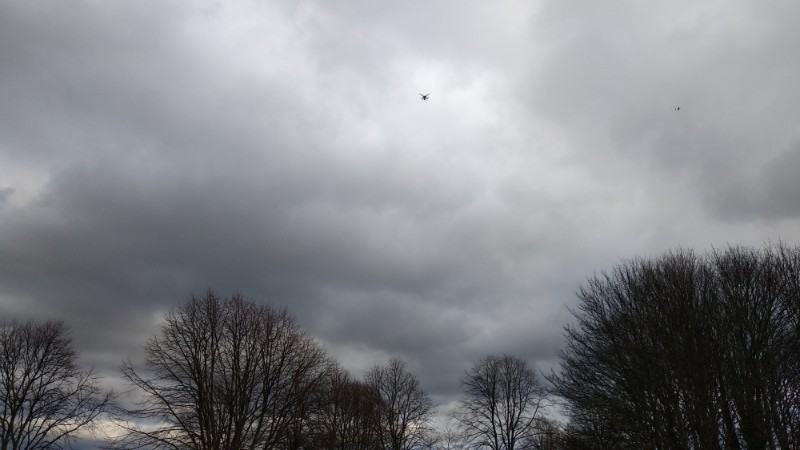drone: (419, 93, 431, 101)
